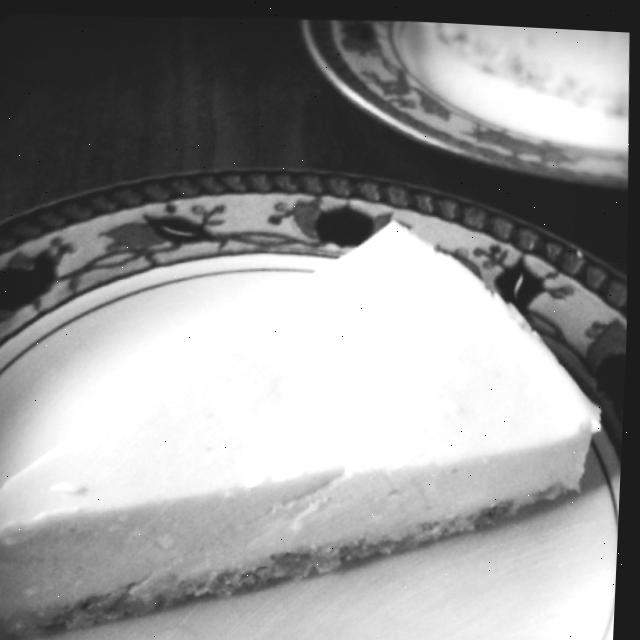蛋糕甜品: (0, 171, 634, 640)
